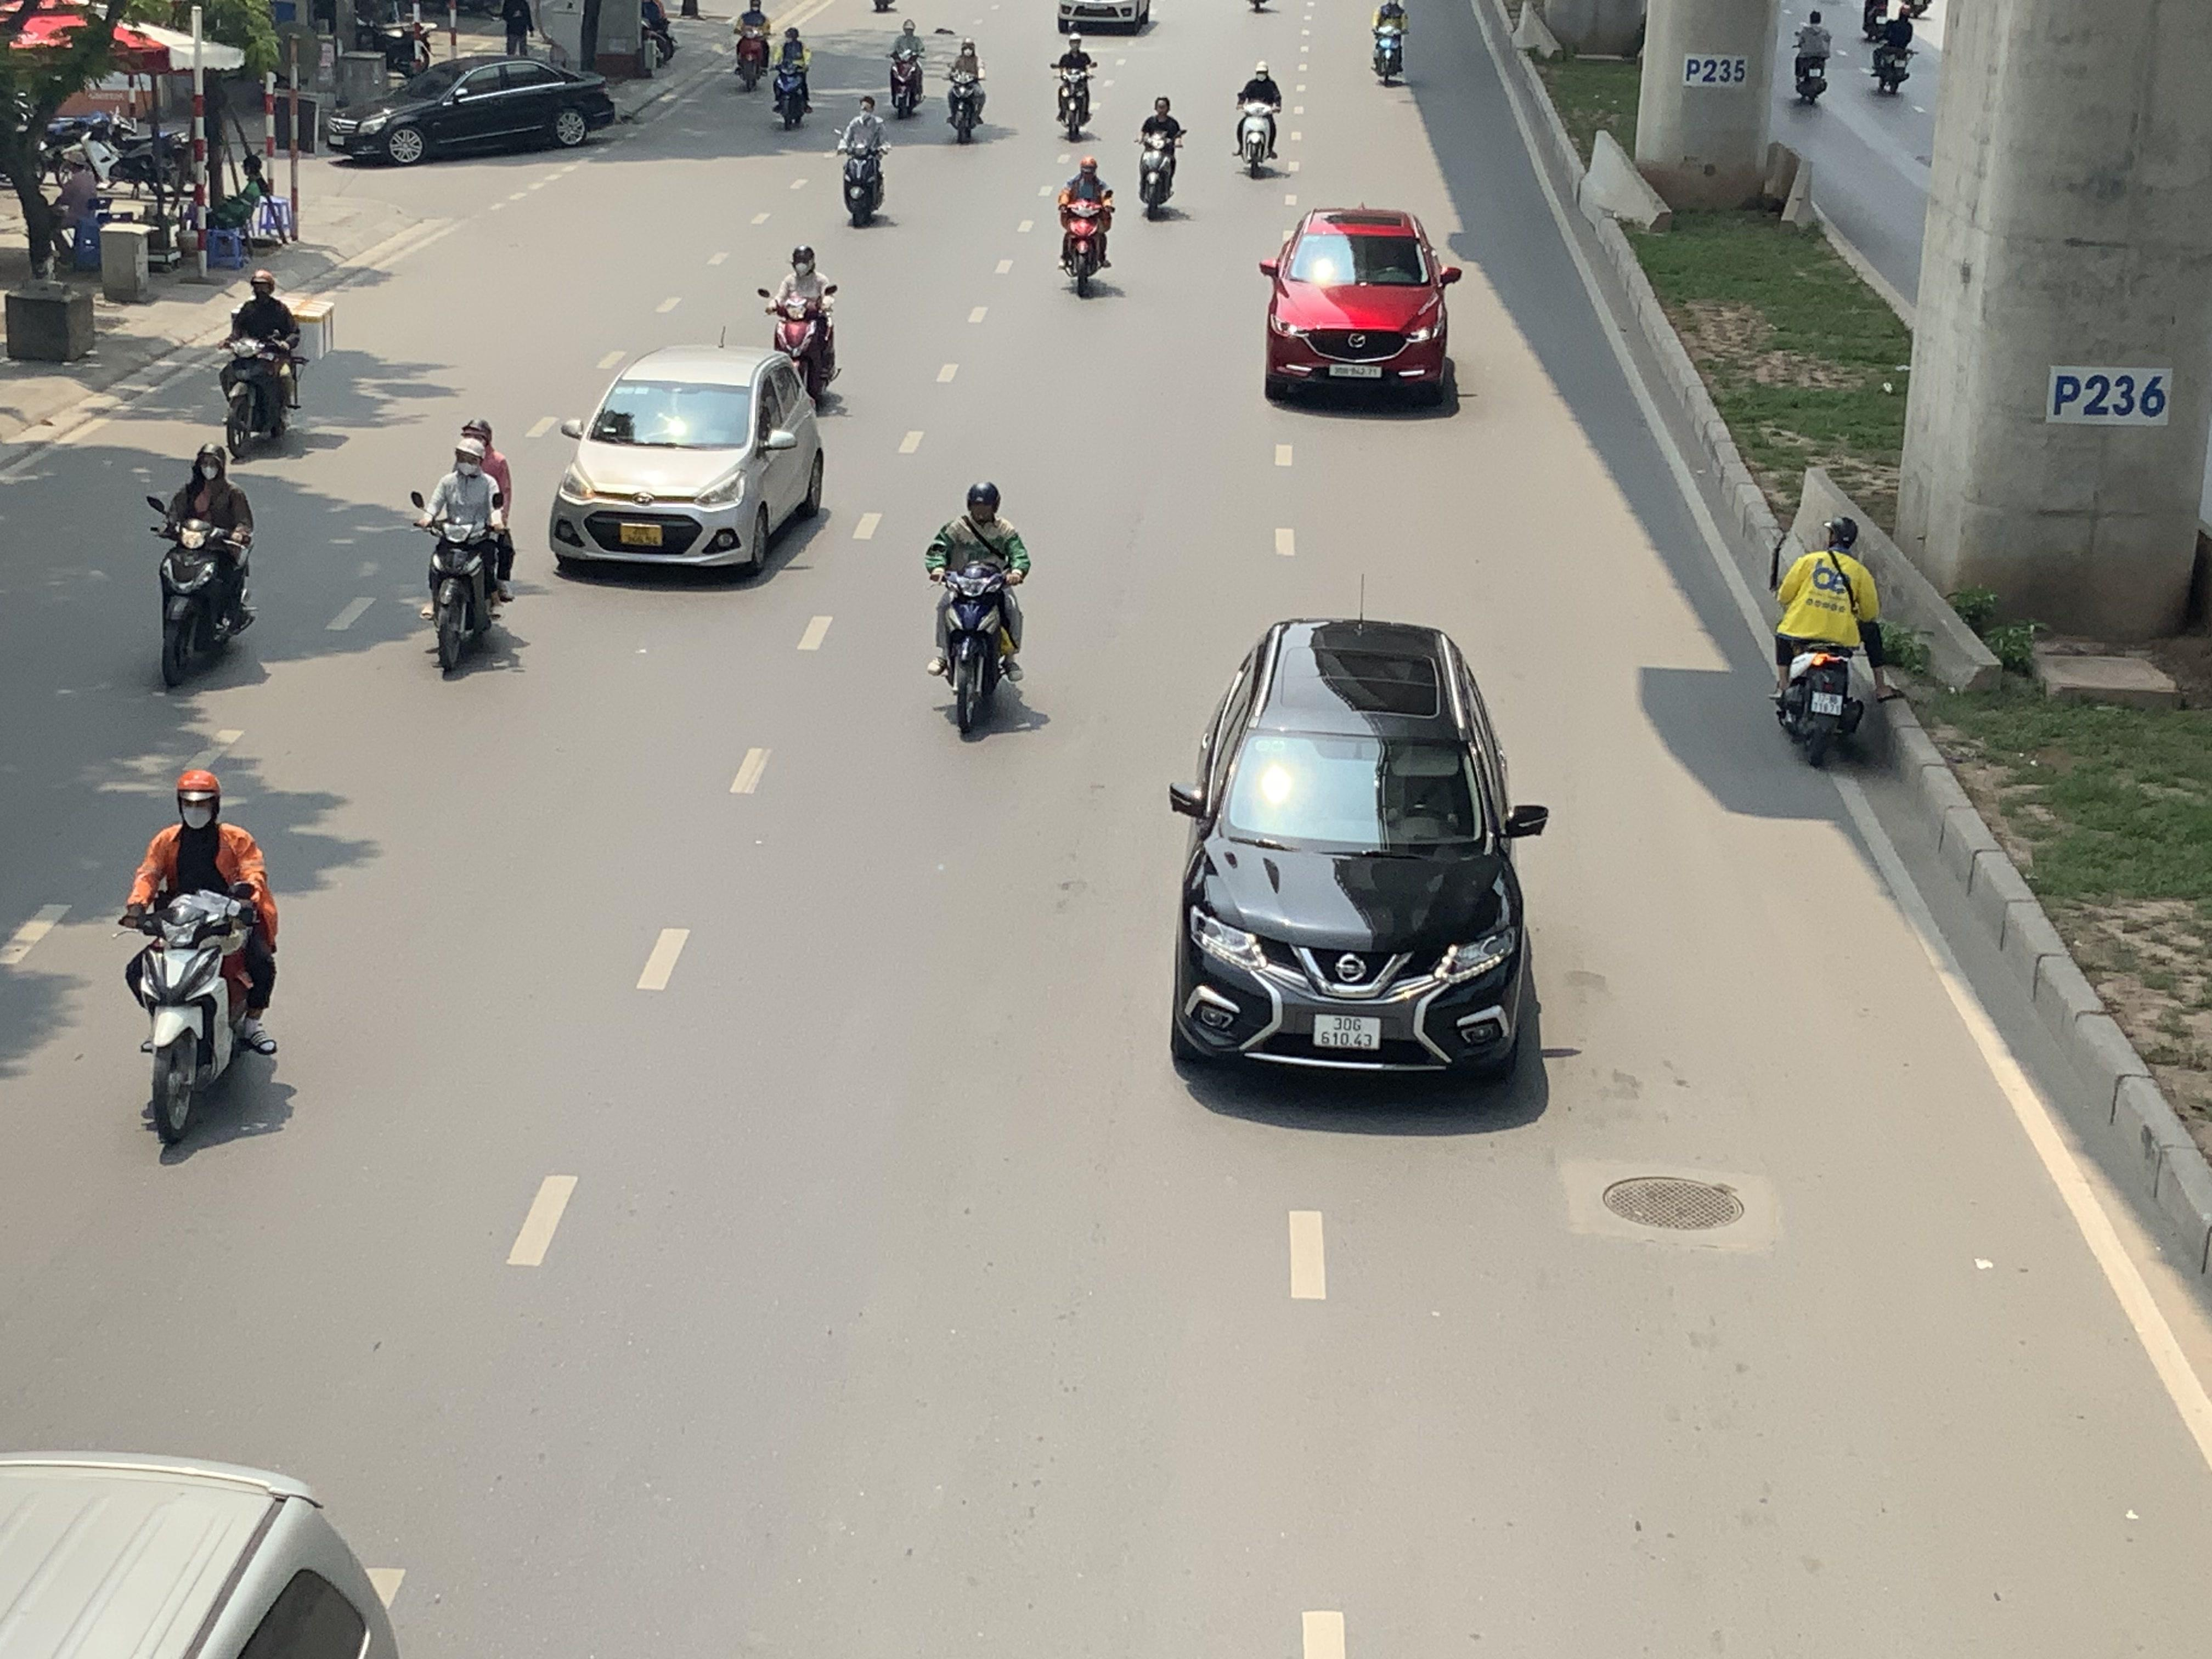BSD: (1329, 364, 1381, 378)
BSV: (1313, 1014, 1381, 1049), (620, 523, 664, 547), (1810, 690, 1843, 716)
car: (1165, 617, 1550, 1091), (0, 1446, 442, 1659), (549, 349, 829, 580), (1258, 206, 1463, 415), (326, 52, 617, 167)
motorbike: (120, 765, 279, 1159), (1771, 514, 1888, 772), (148, 444, 256, 692), (927, 479, 1028, 741), (413, 427, 516, 680), (218, 272, 307, 460), (759, 242, 843, 416), (1055, 155, 1116, 298), (836, 96, 890, 228), (1136, 94, 1186, 220), (1235, 61, 1284, 179), (1052, 30, 1097, 141), (1867, 0, 1918, 96), (768, 24, 813, 131), (944, 37, 988, 145), (887, 17, 928, 119), (1791, 5, 1832, 106), (732, 0, 772, 92), (1371, 0, 1409, 85)
